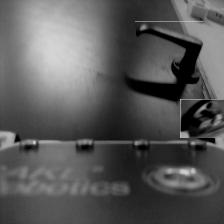Door Handle: (135, 21, 203, 84)
Lock: (182, 97, 223, 140)
